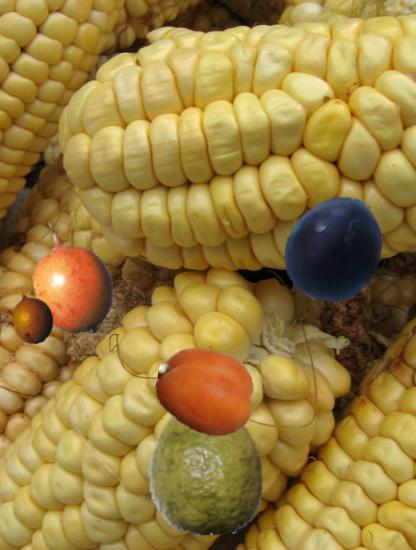Apricot: (155, 341, 257, 443)
Granadilla: (11, 219, 129, 337), (4, 289, 60, 345)
Guava: (139, 401, 273, 535)
Plum: (280, 194, 389, 303)
